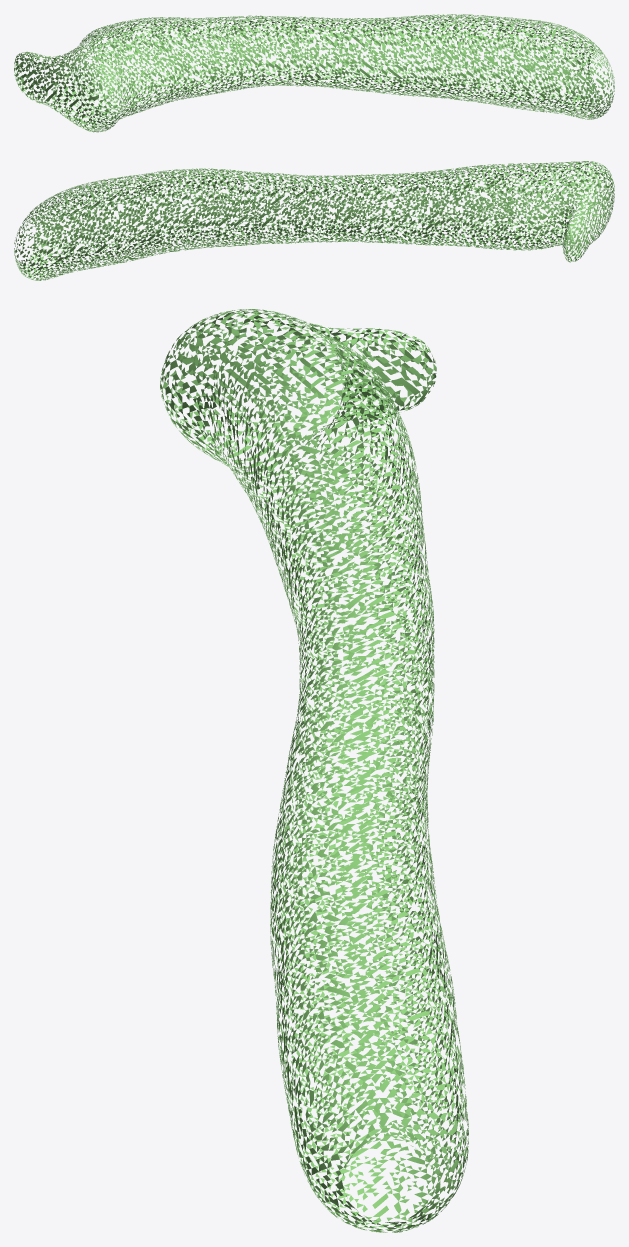
Rendered from morph_015.glb.
The picture shows the model from 3 angles, top to bottom: view 1: azimuth 30°, elevation 25°; view 2: azimuth 150°, elevation 25°; view 3: azimuth 270°, elevation 25°; orthographic projection. The views are drawn at different scales.
Size of the model in its own units: 137 by 49.73 by 32.78.
